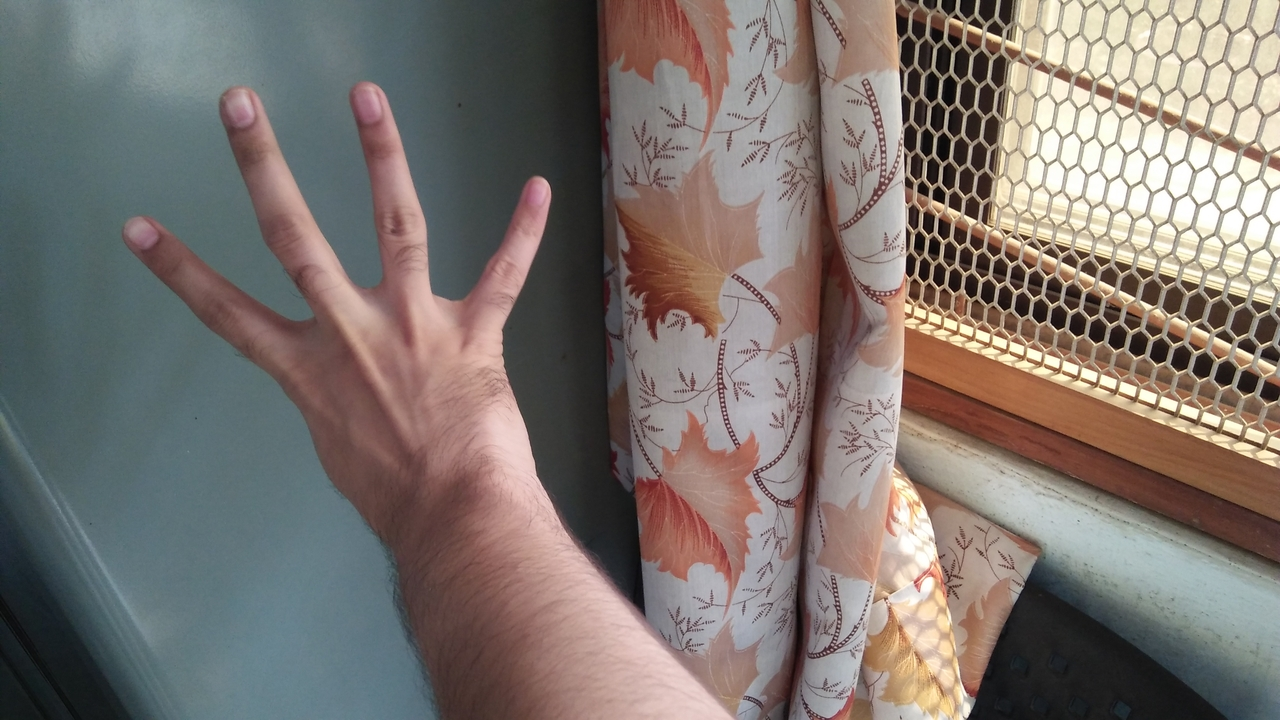fingertip: (110, 204, 168, 260), (336, 74, 396, 126), (206, 80, 266, 132), (500, 162, 560, 214)
